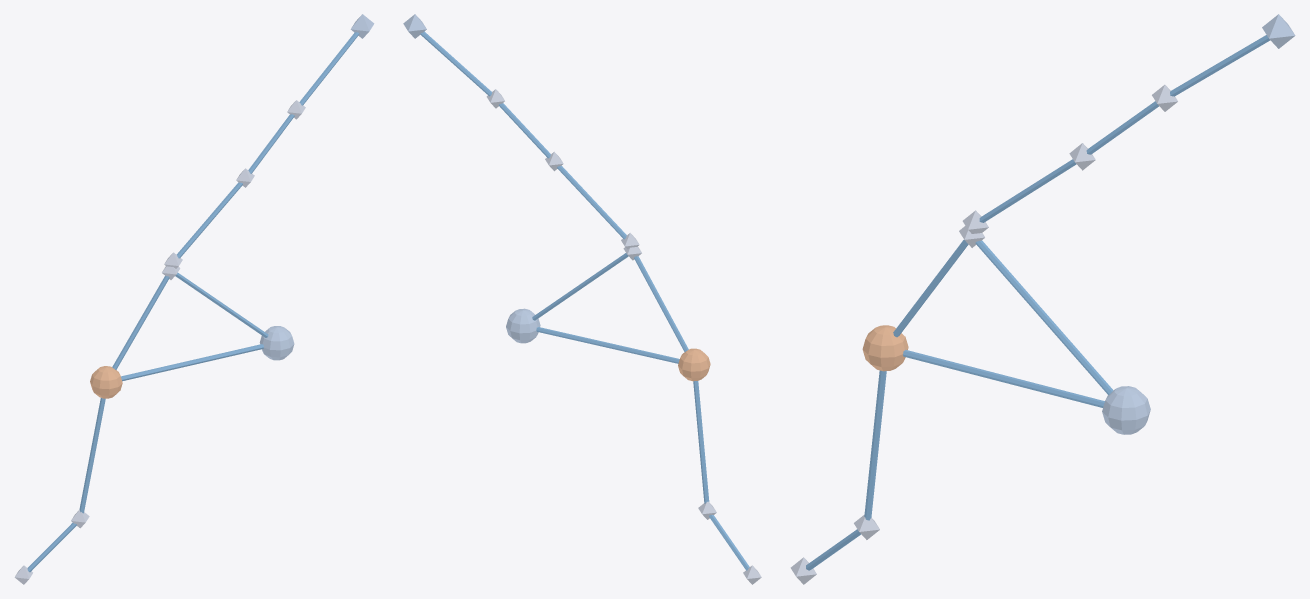
File: constellation-gru.glb
3 renders of one model, left to right at view 1: azimuth 30°, elevation 25°; view 2: azimuth 150°, elevation 25°; view 3: azimuth 330°, elevation 25°, orthographic. The views are drawn at different scales.
Bounding box in the file's own units: 1.29 × 1.68 × 0.1658.
